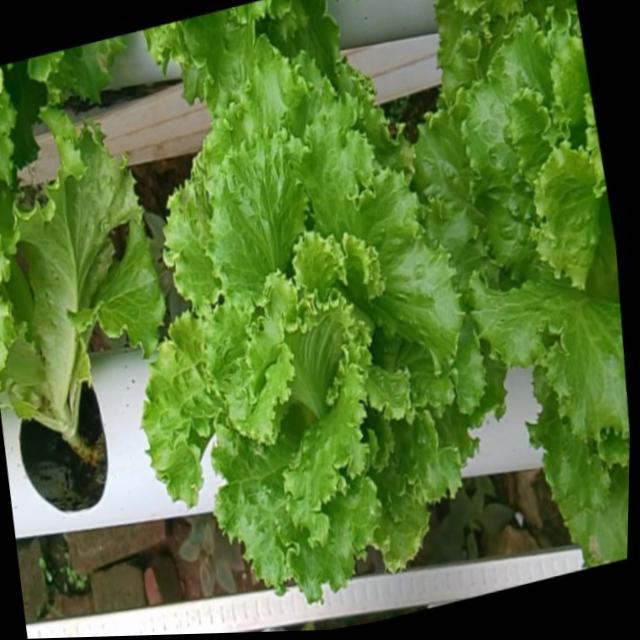Mature: (136, 66, 480, 620), (408, 29, 630, 467)
